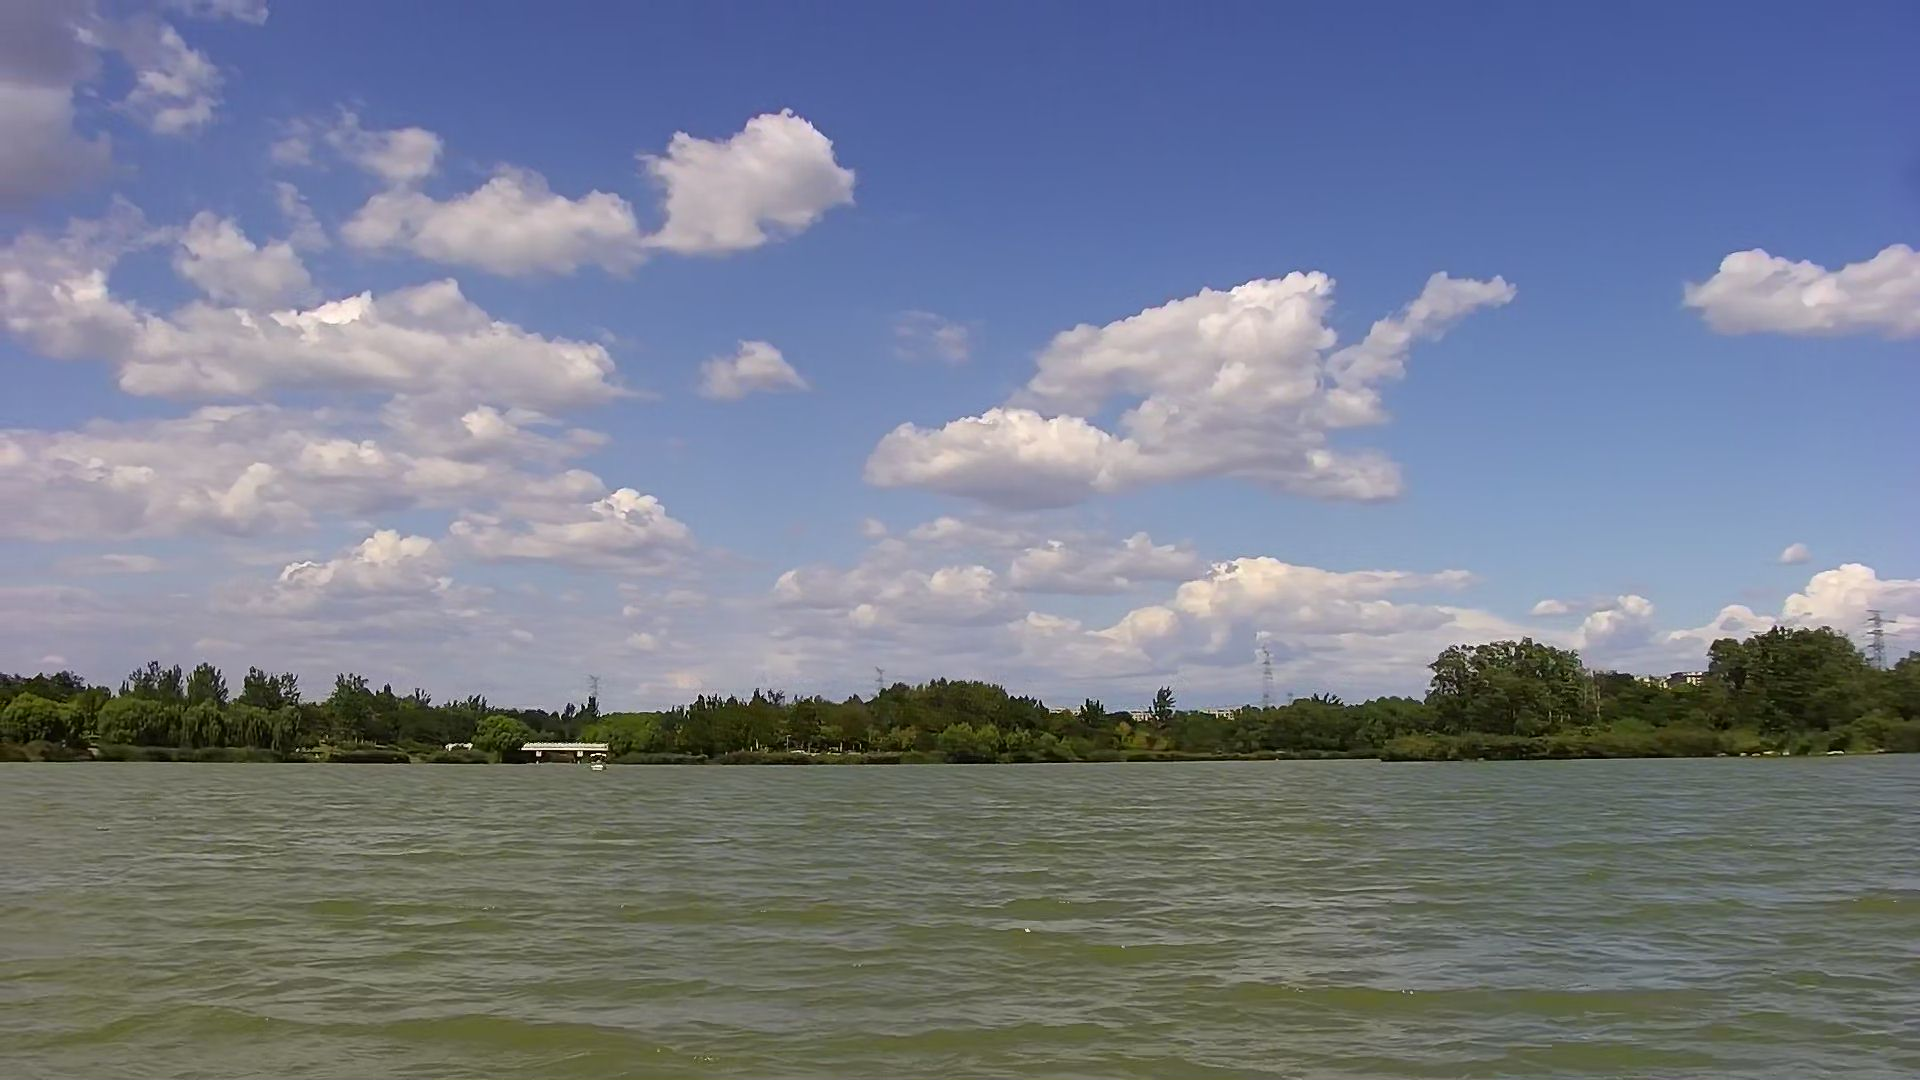harbor: (514, 735, 620, 773)
